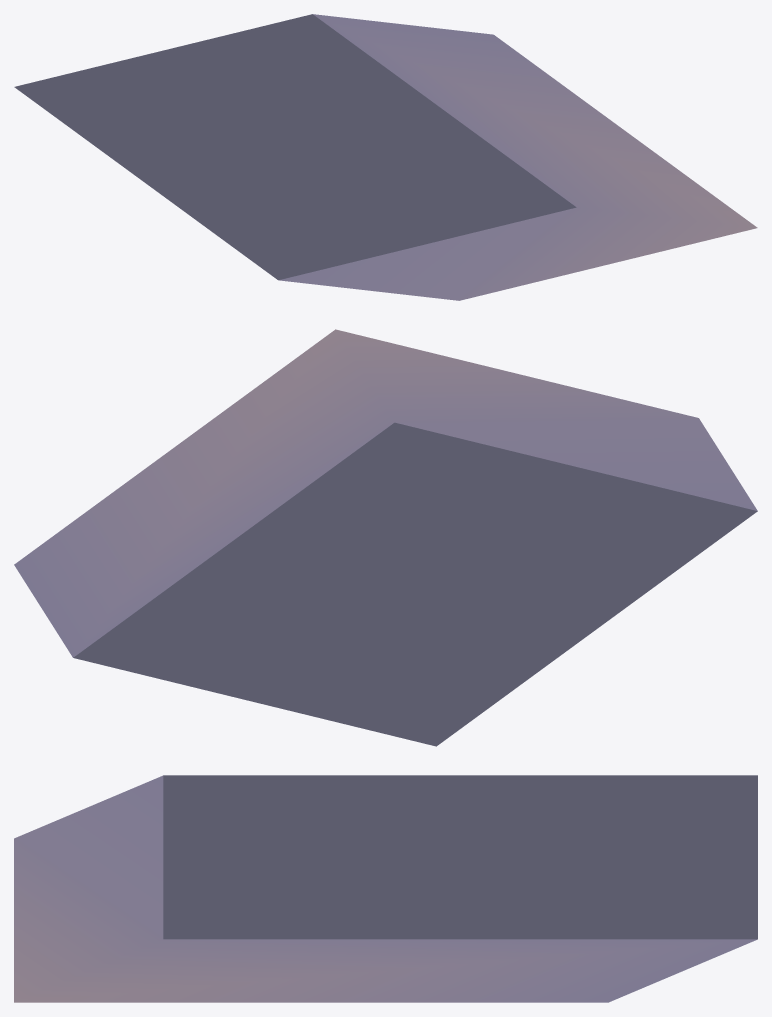
3 renders of one model, top to bottom at view 1: azimuth 30°, elevation 25°; view 2: azimuth 150°, elevation 25°; view 3: azimuth 270°, elevation 25°, orthographic. The views are drawn at different scales.
Parts seen in each view (by area): view 1: Joint_0_Object_0; view 2: Joint_0_Object_0; view 3: Joint_0_Object_0.
Boxes of the visible parts, x1,y1,x2,y2 form: Joint_0_Object_0: [14, 14, 757, 300]; Joint_0_Object_0: [14, 329, 757, 746]; Joint_0_Object_0: [14, 775, 757, 1002].
Size of the model in its own units: 720 by 0 by 997.
1 material, 1 textured.
